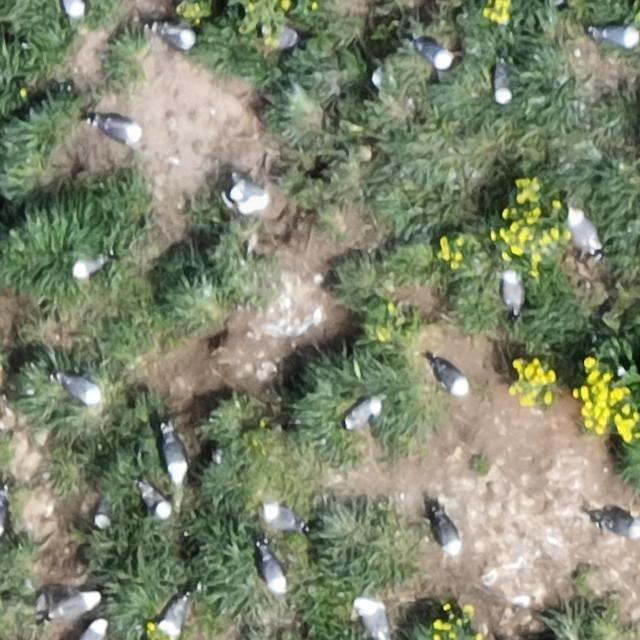umineko: (231, 168, 274, 213), (569, 212, 601, 255), (159, 596, 189, 637), (49, 590, 97, 614), (163, 434, 187, 480), (64, 376, 102, 404), (436, 362, 468, 394), (96, 492, 119, 536), (102, 119, 141, 143), (360, 602, 386, 638), (346, 399, 379, 427), (262, 506, 300, 530), (418, 43, 453, 69), (598, 26, 640, 47), (502, 273, 523, 315), (143, 488, 170, 520), (438, 520, 461, 555), (263, 556, 284, 594), (604, 516, 640, 538), (162, 28, 194, 51), (72, 256, 107, 277), (495, 64, 512, 105), (79, 619, 105, 640), (60, 1, 83, 20)
